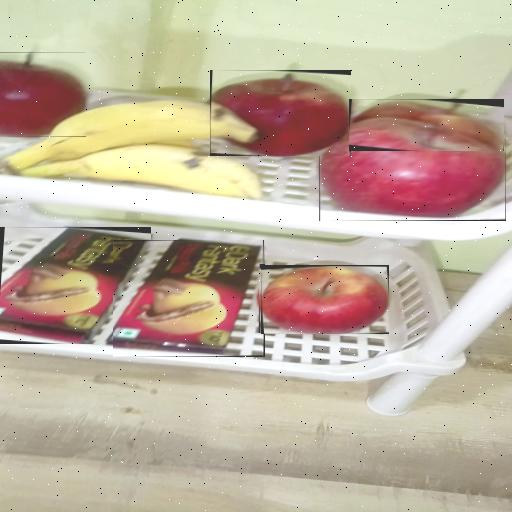Apple: (319, 122, 506, 221), (210, 70, 351, 156), (261, 265, 389, 334), (349, 99, 504, 151), (0, 52, 86, 137)
Choco Fills: (114, 240, 266, 357), (0, 227, 151, 344)
